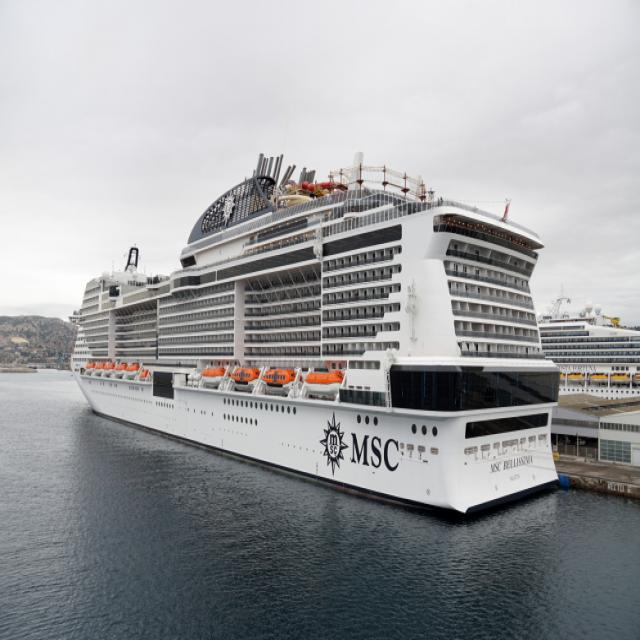cruises: (67, 149, 564, 531)
